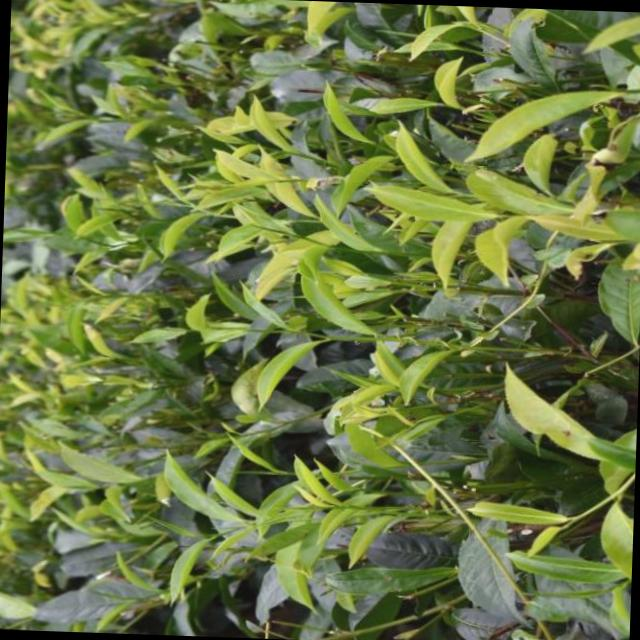Stem: (572, 510, 588, 520), (214, 530, 228, 537), (299, 150, 311, 158), (262, 225, 275, 230), (622, 88, 636, 92), (245, 327, 257, 331), (207, 210, 216, 214)
